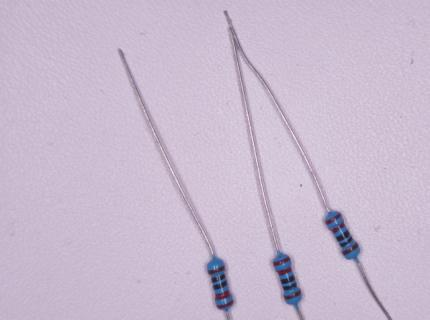Black band: (336, 230, 351, 242), (339, 236, 353, 248), (280, 275, 296, 285), (282, 282, 298, 291), (211, 274, 226, 283), (213, 281, 228, 290)
Brown band: (342, 242, 359, 256), (283, 289, 302, 300), (208, 264, 224, 275)
Red band: (326, 213, 341, 225), (331, 221, 345, 233), (273, 257, 291, 266), (217, 300, 234, 309), (215, 290, 231, 299), (277, 267, 292, 275)
